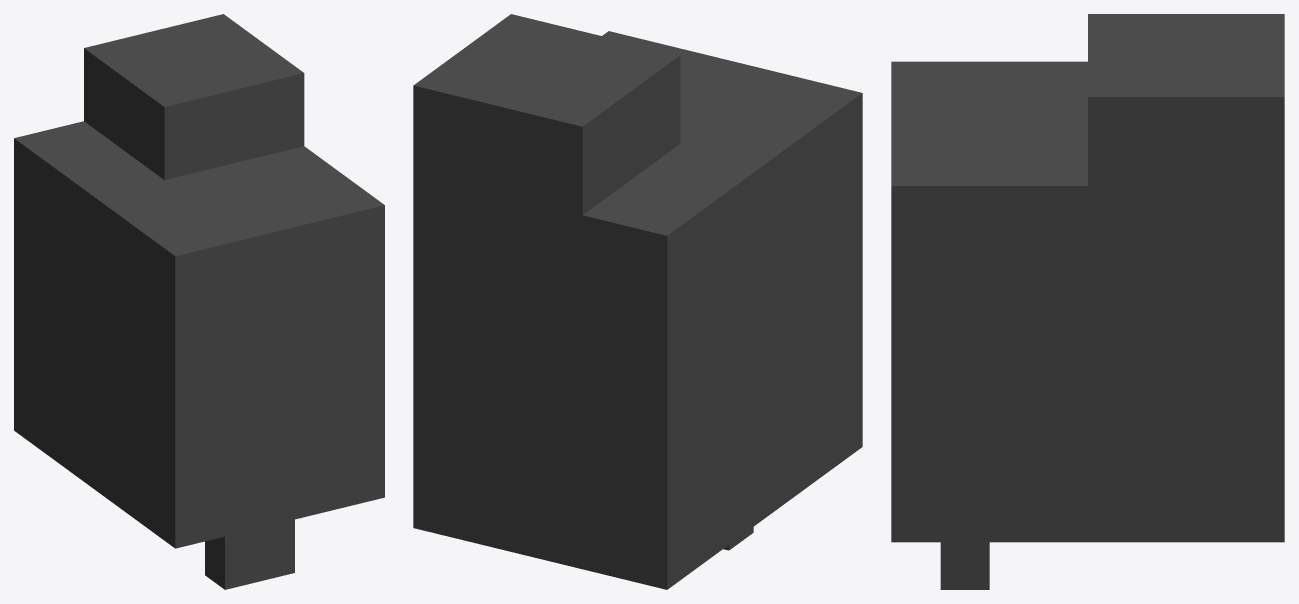
The model's file is PlayerDark-5-Player_RLeg.obj.
3 renders of one model, left to right at view 1: azimuth 30°, elevation 25°; view 2: azimuth 150°, elevation 25°; view 3: azimuth 270°, elevation 25°, orthographic. The views are drawn at different scales.
Visible parts, largest first — view 1: Player_RLeg; view 2: Player_RLeg; view 3: Player_RLeg.
Boxes of the visible parts, x1,y1,x2,y2 form: Player_RLeg: [14, 14, 384, 589]; Player_RLeg: [413, 14, 862, 589]; Player_RLeg: [891, 14, 1284, 589].
Size of the model in its own units: 0.6 by 1.2 by 0.8.
Materials: 1 (1 with a texture image).
